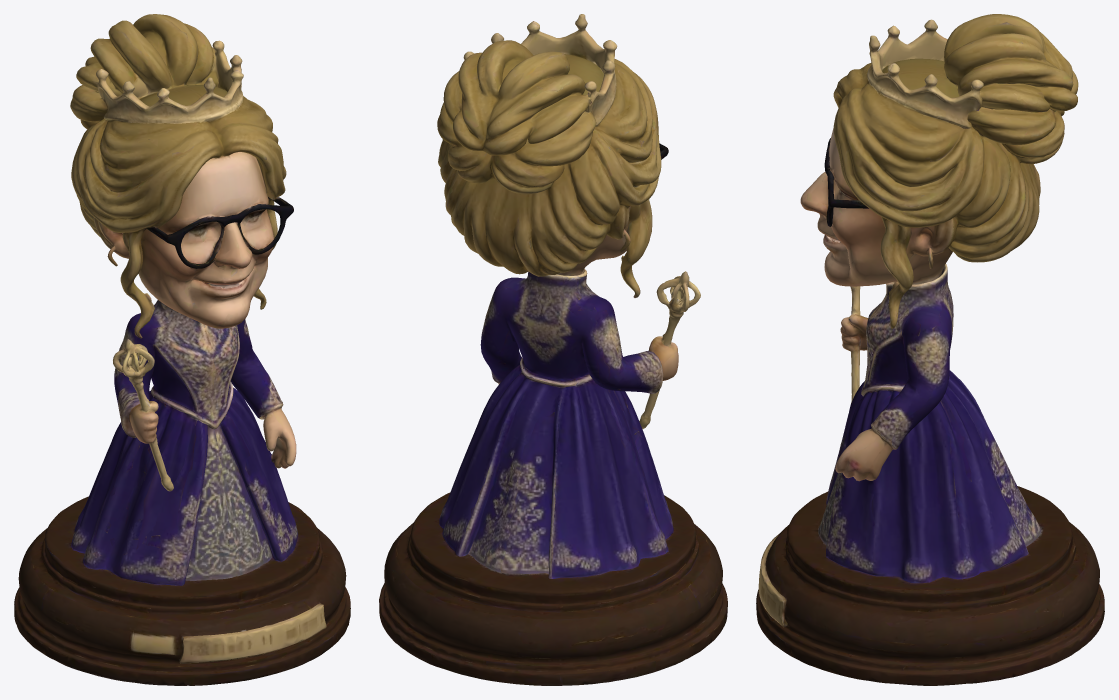
File: queen-kate-wedding2016_winner.glb
The picture shows the model from 3 angles, left to right: view 1: azimuth 30°, elevation 25°; view 2: azimuth 150°, elevation 25°; view 3: azimuth 270°, elevation 25°; orthographic projection. The views are drawn at different scales.
Parts seen in each view (by area): view 1: world; view 2: world; view 3: world.
Boxes of the visible parts, box(x1,y1,x2,y2) form: world: box(14, 14, 350, 685); world: box(379, 14, 727, 685); world: box(756, 14, 1104, 685).
Size of the model in its own units: 0.5388 by 1 by 0.539.
1 material, 1 textured.
